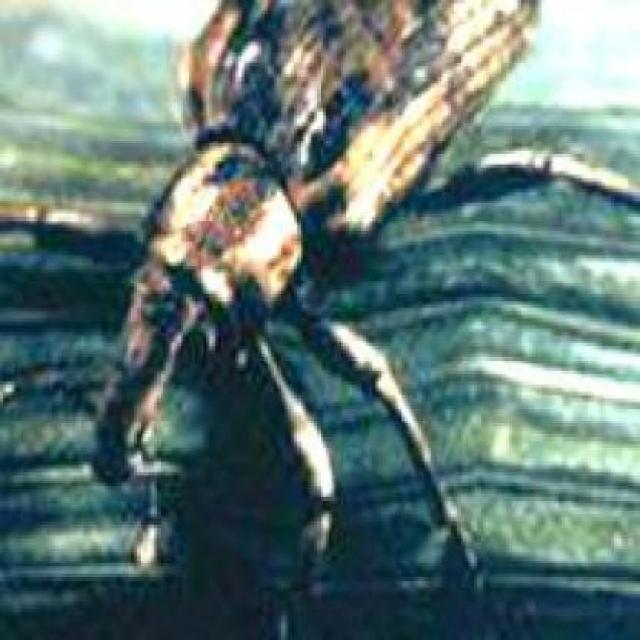rice-bug: (84, 0, 556, 506)
